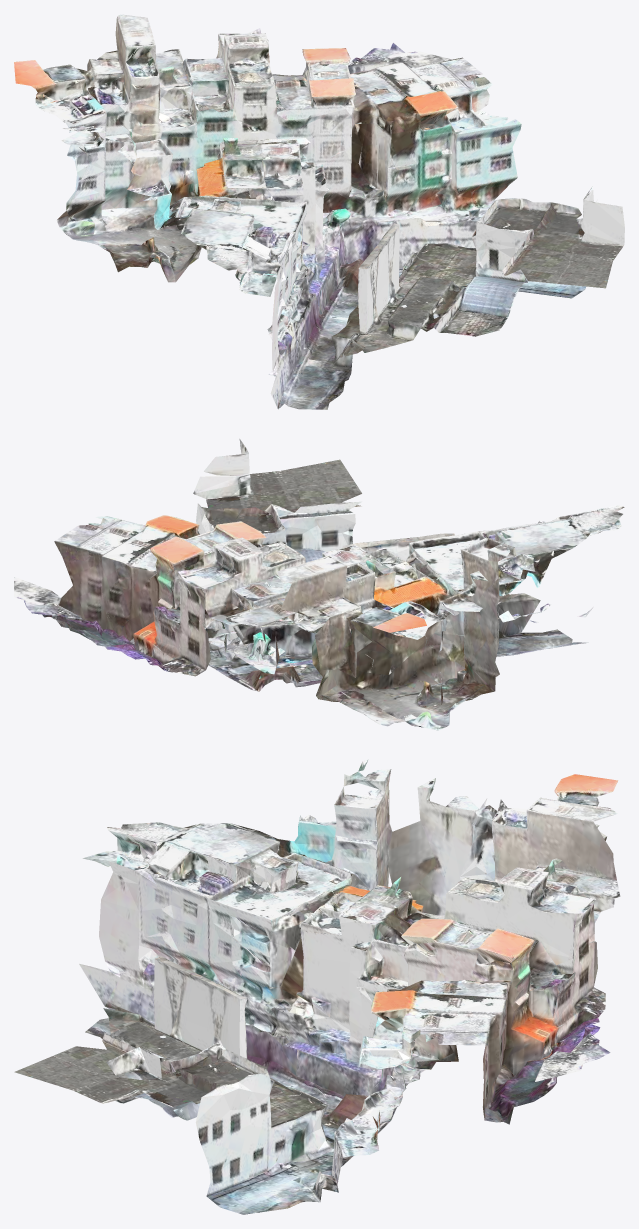
Rendered from Tile_+012_+018_L19_000032.glb.
The picture shows the model from 3 angles, top to bottom: view 1: azimuth 30°, elevation 25°; view 2: azimuth 150°, elevation 25°; view 3: azimuth 270°, elevation 25°; orthographic projection. The views are drawn at different scales.
Visible parts, largest first — view 1: rtc; view 2: rtc; view 3: rtc.
Boxes of the visible parts, x1,y1,x2,y2 form: rtc: (14,14,624,409); rtc: (14,439,624,730); rtc: (14,759,620,1214).
Size of the model in its own units: 58.53 by 28.15 by 64.83.
1 material, 1 textured.
